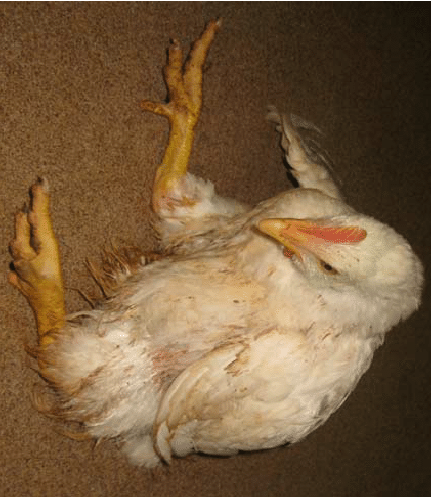Unhealthy: (14, 18, 418, 465)
